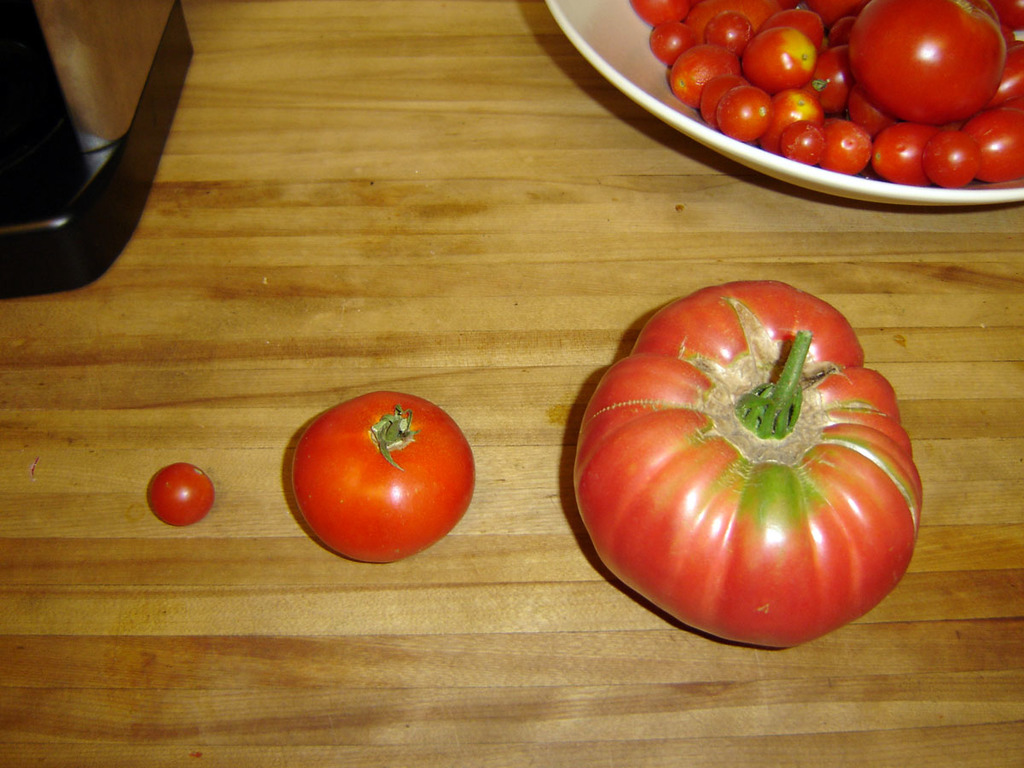Tomato: (574, 281, 920, 648), (628, 0, 1023, 186), (288, 391, 471, 567), (146, 463, 220, 528)
